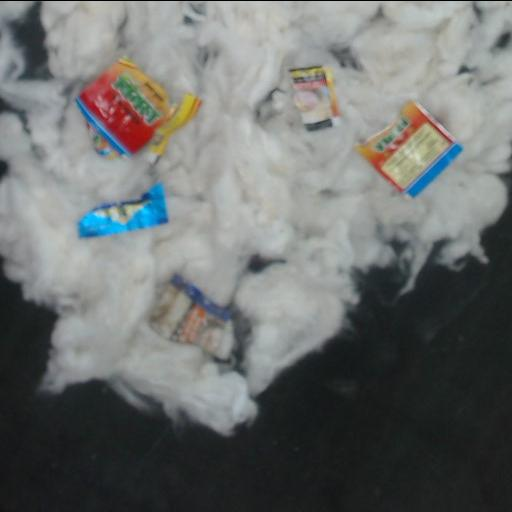conveyor belt: (0, 173, 511, 512), (13, 4, 48, 76)
cotton: (0, 1, 511, 433)
packet: (75, 59, 200, 162), (357, 102, 461, 196), (148, 276, 233, 360), (78, 184, 167, 237), (289, 66, 339, 131)
